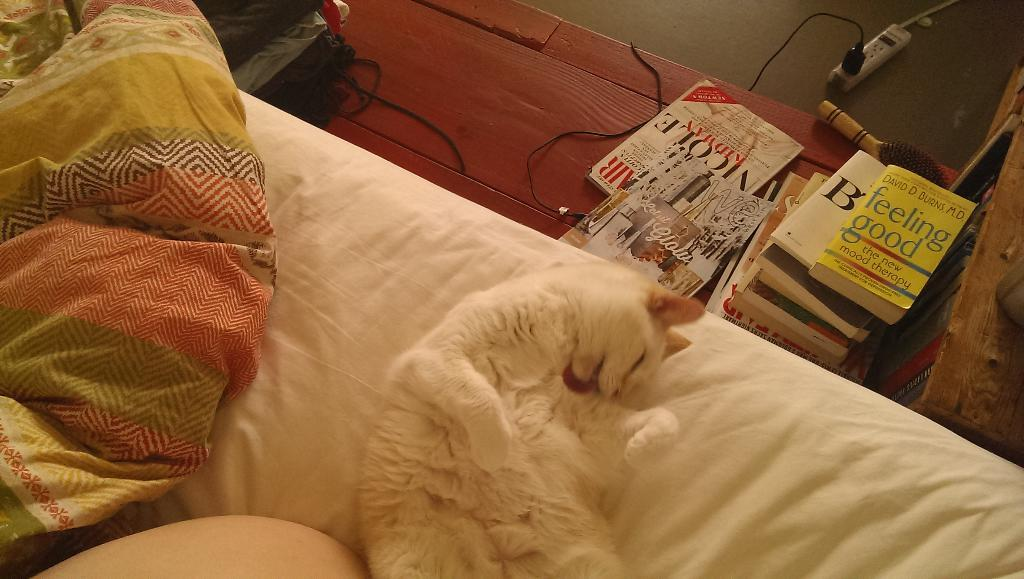Book: (711, 119, 972, 394), (554, 138, 772, 300), (588, 79, 806, 199)
